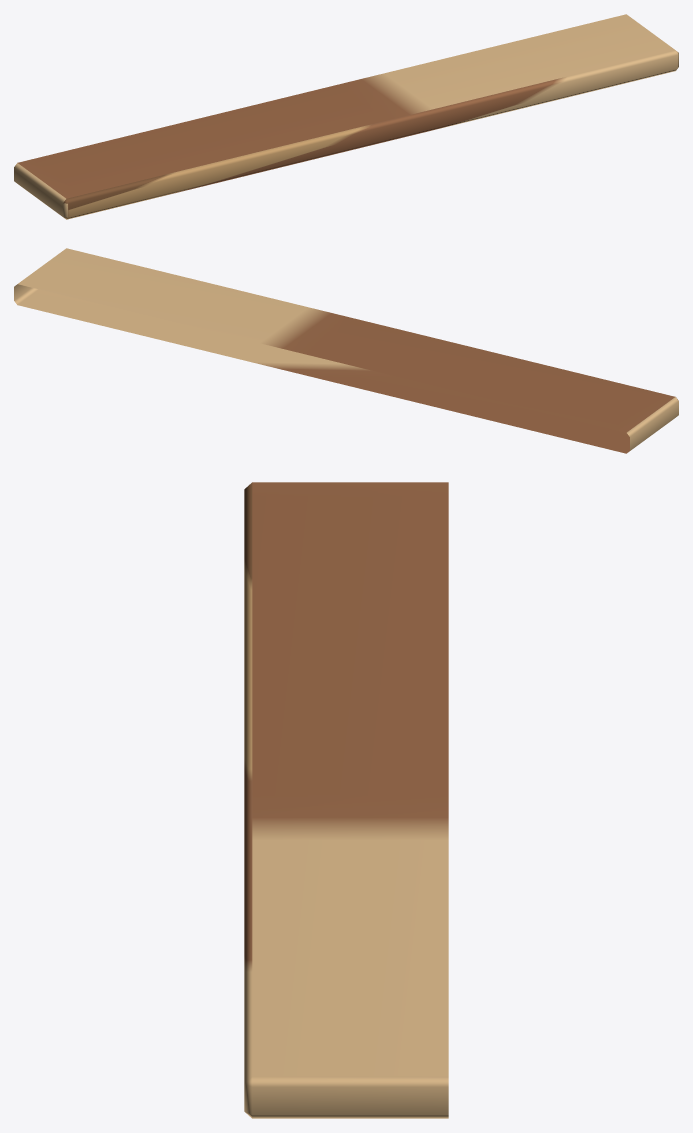
The model's file is DBK_WinDouble_Trim_B_Tile.fbx.
3 views of the same model, one above another, from view 1: azimuth 30°, elevation 25°; view 2: azimuth 150°, elevation 25°; view 3: azimuth 270°, elevation 25° (orthographic). The views are drawn at different scales.
Visible parts, largest first — view 1: DBK_WinDouble_Trim_B_Tile; view 2: DBK_WinDouble_Trim_B_Tile; view 3: DBK_WinDouble_Trim_B_Tile.
Boxes of the visible parts, x1,y1,x2,y2 form: DBK_WinDouble_Trim_B_Tile: (14,14,678,219); DBK_WinDouble_Trim_B_Tile: (14,248,678,453); DBK_WinDouble_Trim_B_Tile: (244,482,448,1118).
Size of the model in its own units: 164 by 5.34 by 23.51.
